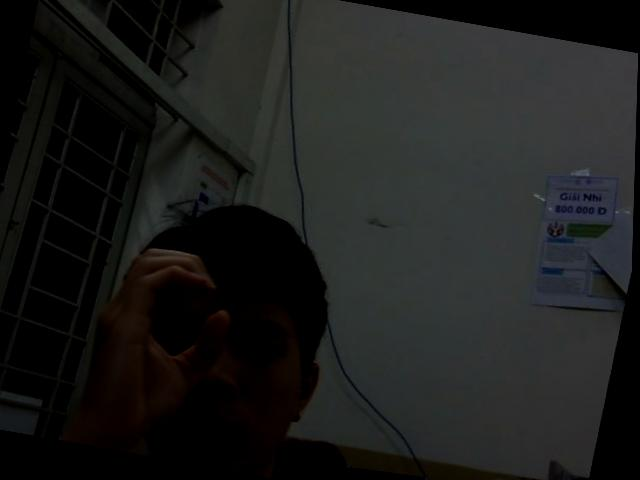C: (72, 236, 246, 450)
